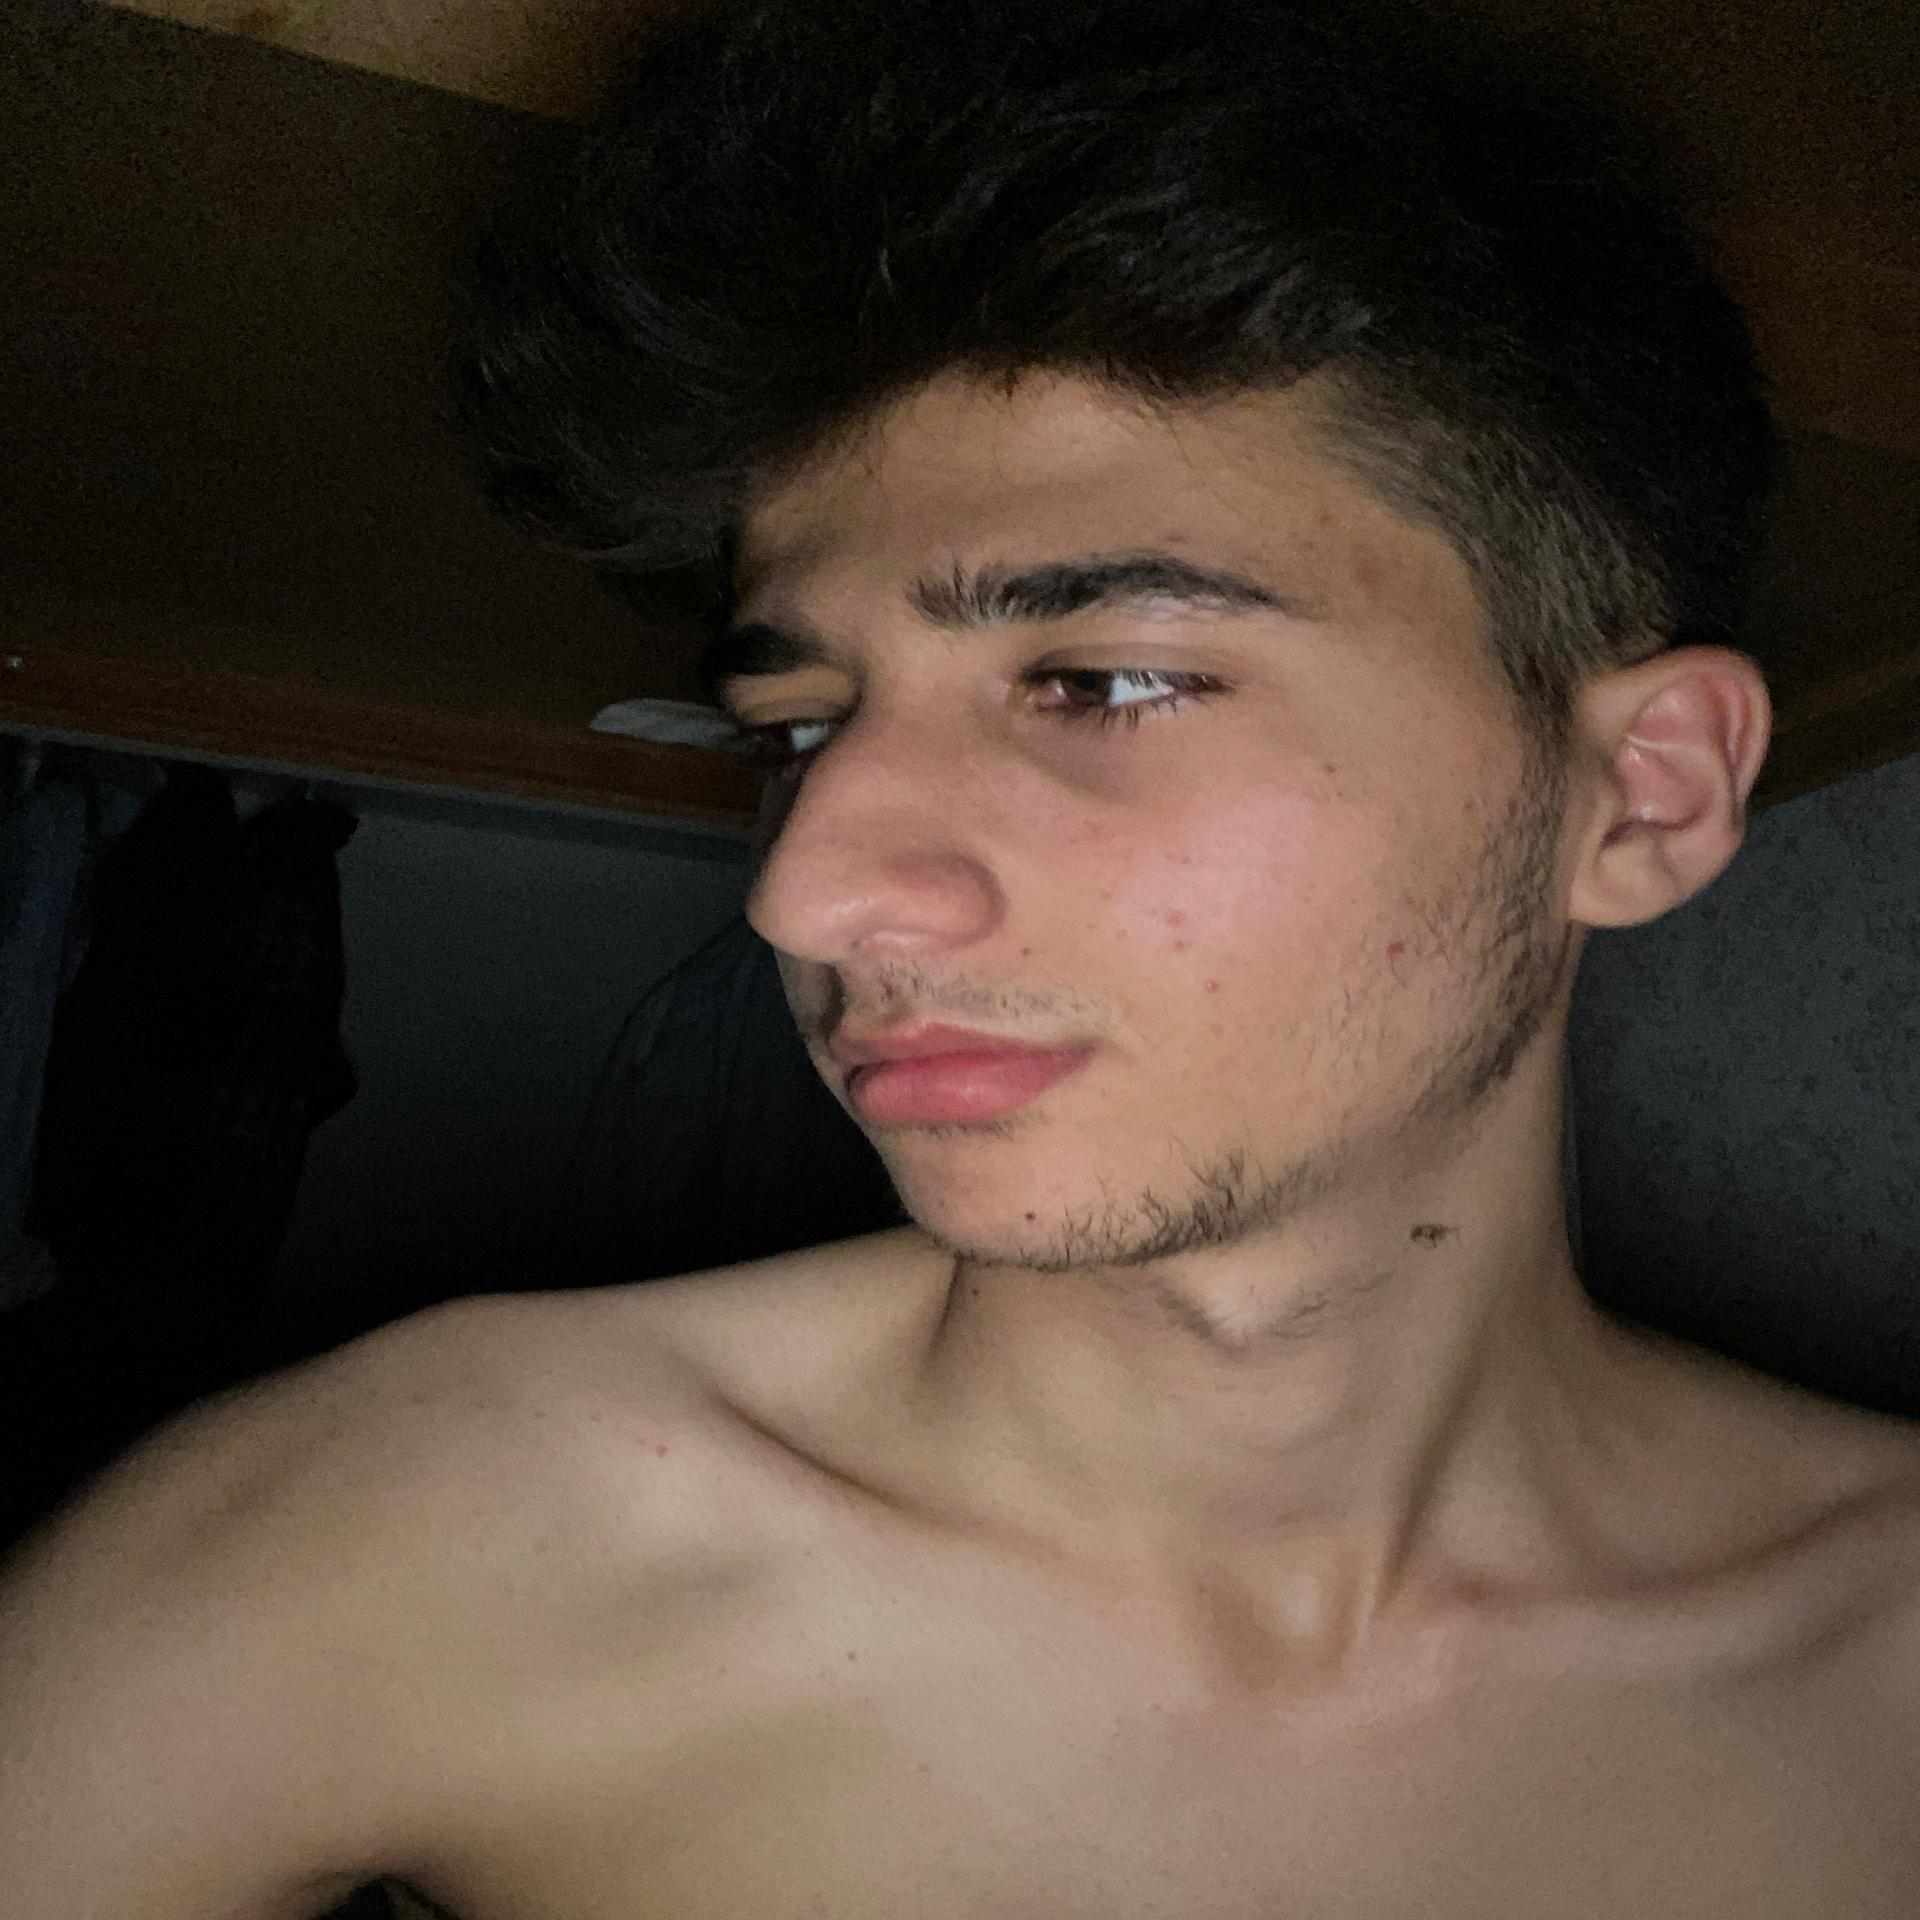Acne: (1310, 747, 1389, 812), (1071, 816, 1132, 865), (1364, 928, 1429, 962), (1153, 905, 1204, 946), (1382, 883, 1436, 920), (1347, 561, 1401, 596), (1166, 969, 1227, 997), (1081, 916, 1138, 946), (1016, 934, 1053, 969), (1159, 846, 1206, 870), (1150, 527, 1190, 554), (1083, 876, 1116, 905), (1317, 510, 1352, 535), (1016, 1208, 1048, 1225)
Dark Circles: (988, 721, 1303, 812)
